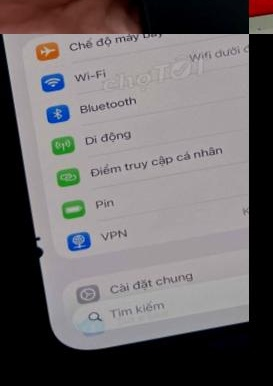screen_defect: (17, 197, 92, 304)
